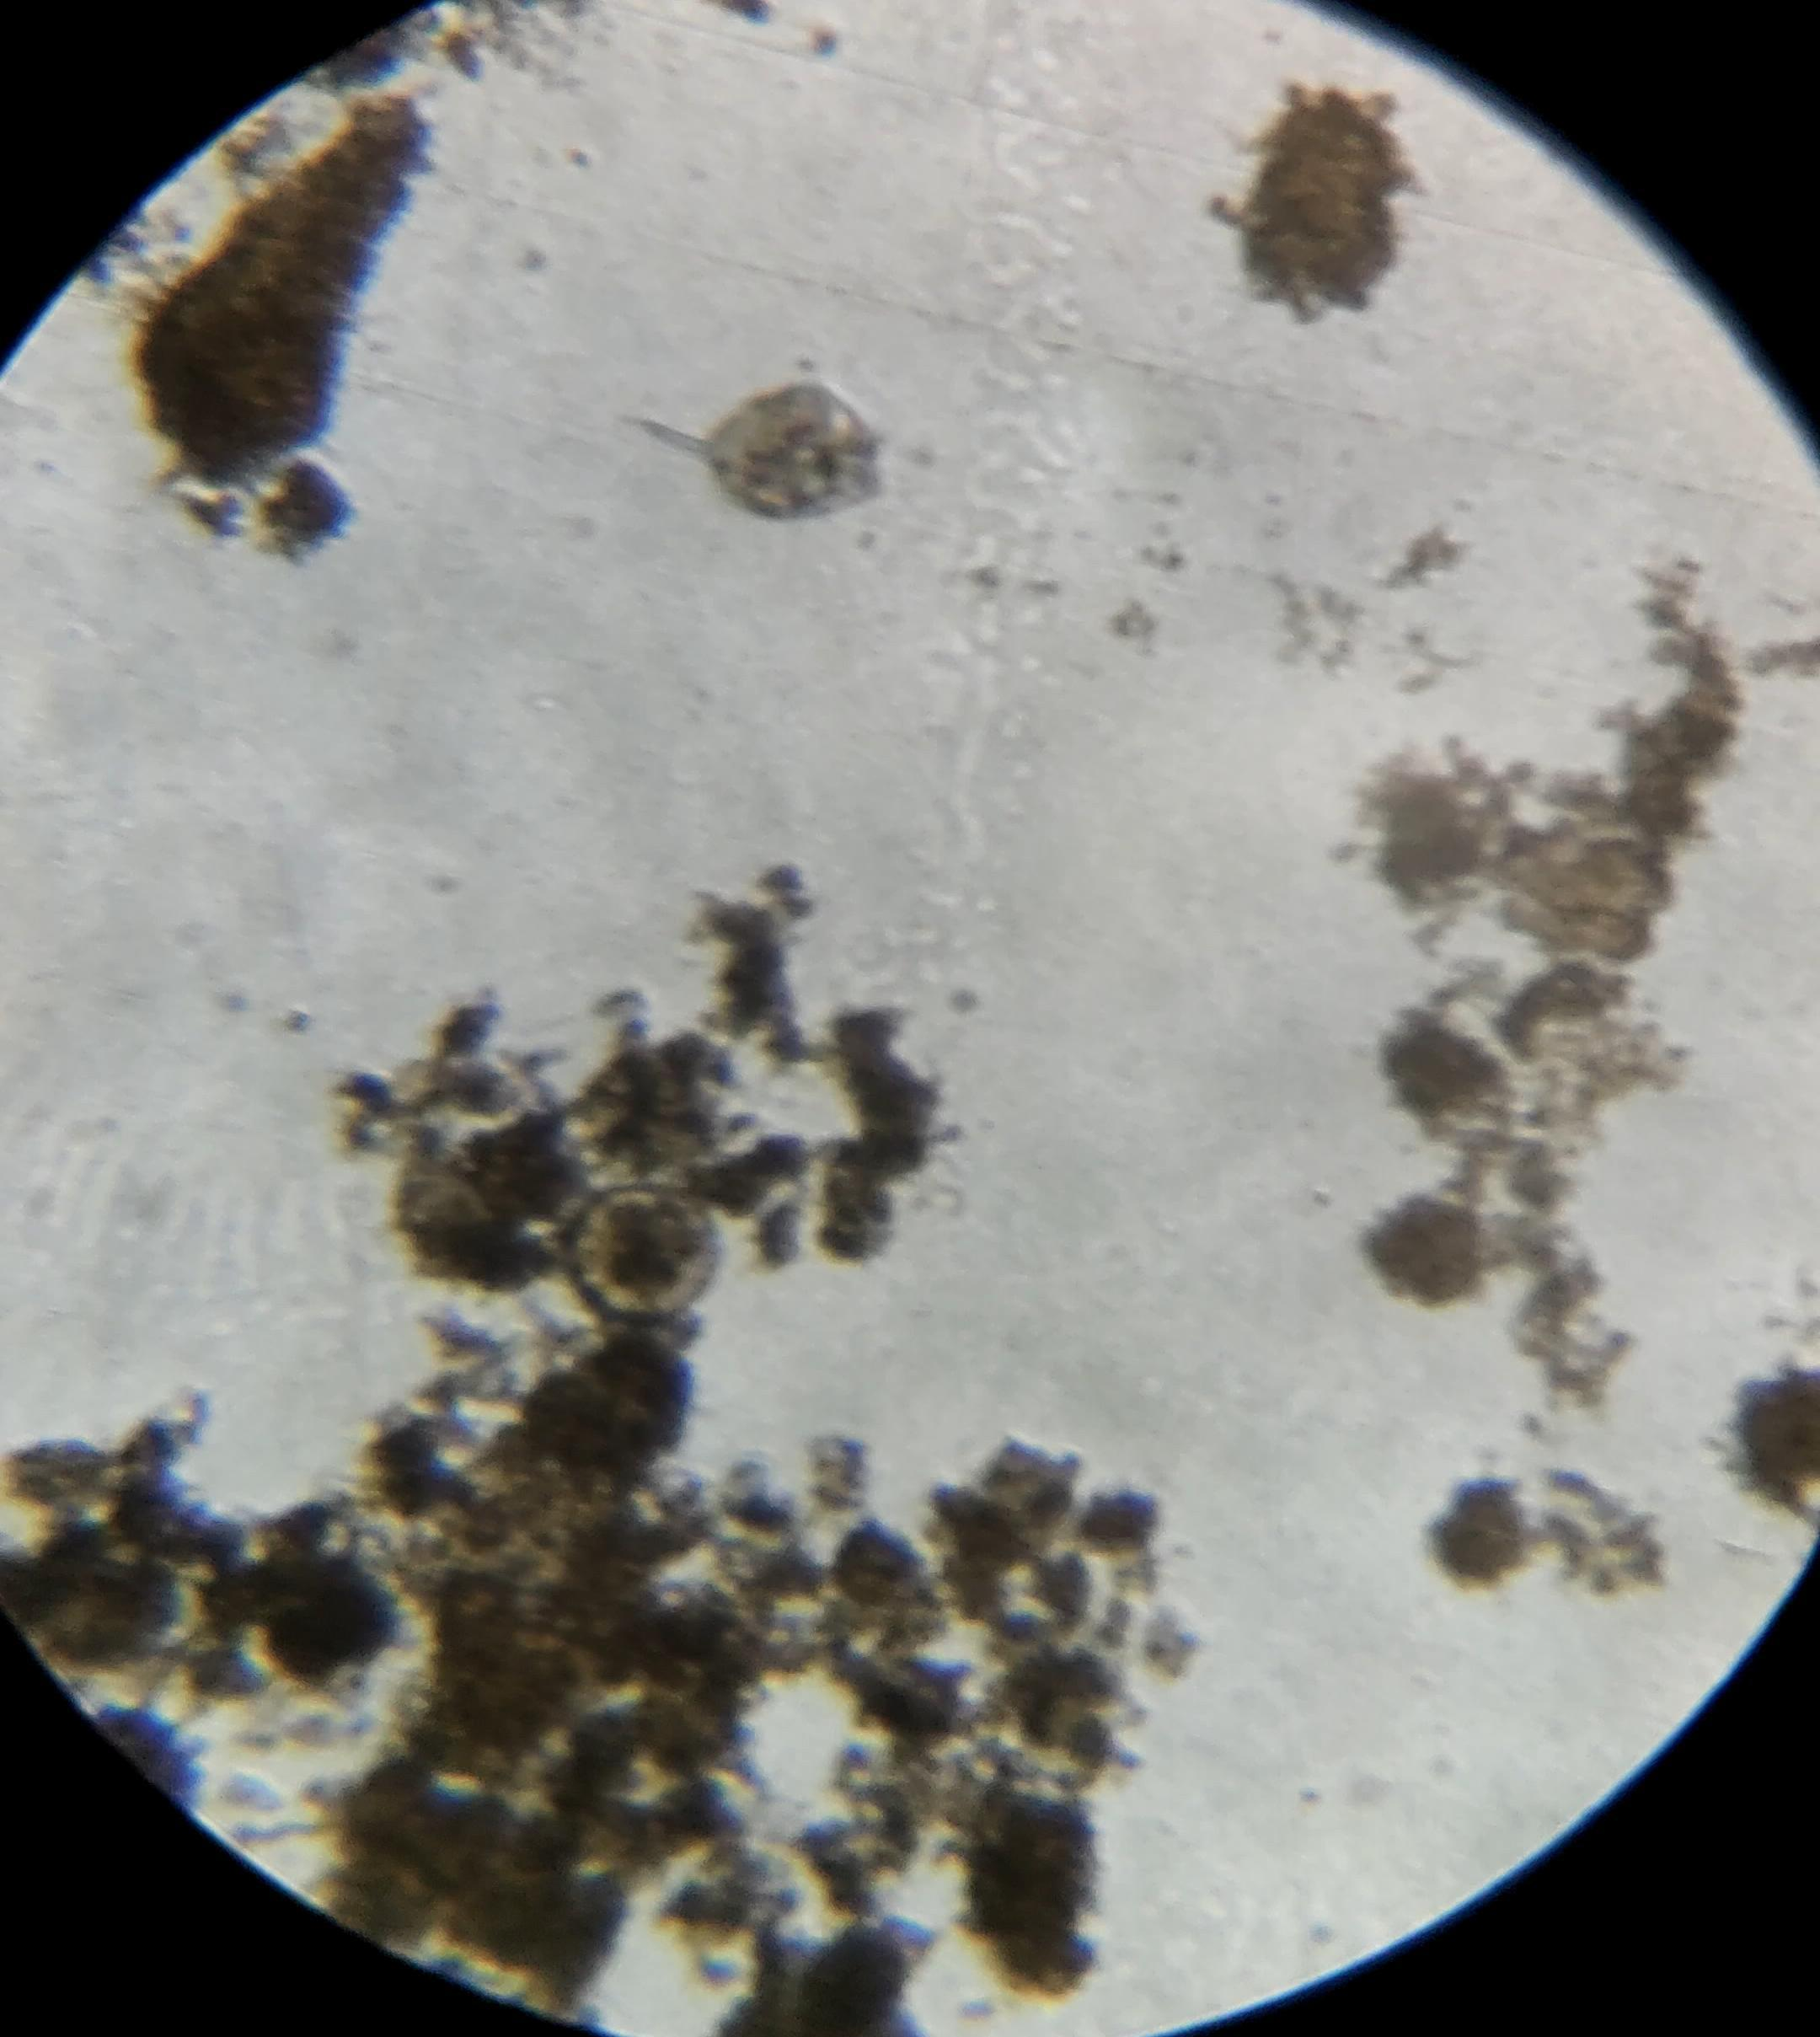Arcella: (573, 1186, 717, 1320)
Mo: (618, 385, 885, 520)
